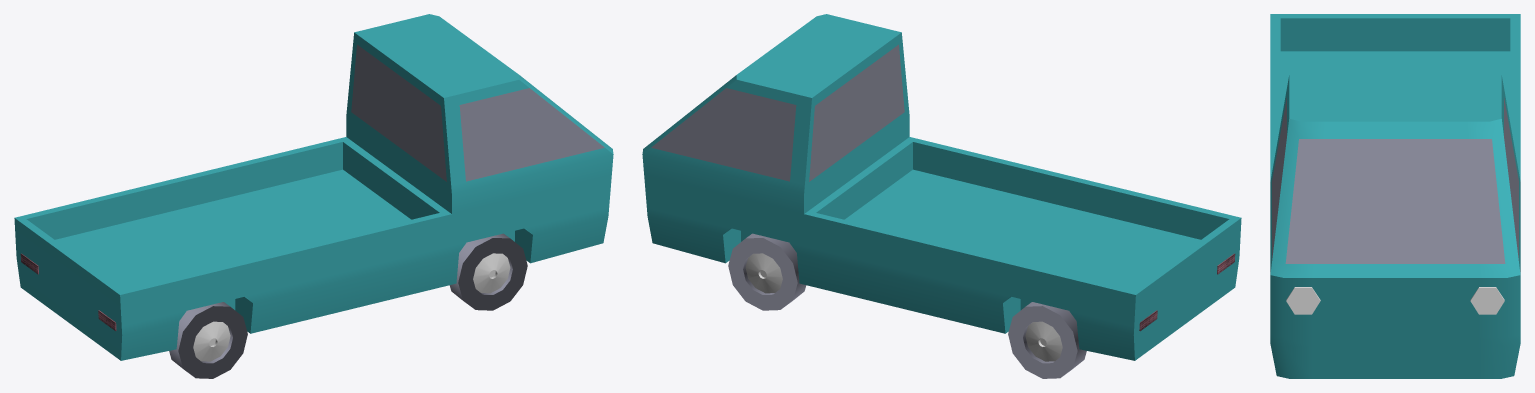
File: PickUpAqua.gltf
3 views of the same model, side by side, from view 1: azimuth 30°, elevation 25°; view 2: azimuth 150°, elevation 25°; view 3: azimuth 270°, elevation 25° (orthographic). The views are drawn at different scales.
Parts seen in each view (by area): view 1: Main body, Windows/Wheels, Wheels, Disk; view 2: Main body, Windows/Wheels, Wheels, Disk; view 3: Main body, Windows/Wheels, Front lights.
Boxes of the visible parts, box(x1,y1,x2,y2) form: Main body: box(14, 14, 613, 360); Windows/Wheels: box(351, 44, 604, 181); Wheels: box(169, 233, 527, 378); Disk: box(193, 253, 510, 361); Main body: box(642, 14, 1241, 360); Windows/Wheels: box(651, 44, 904, 181); Wheels: box(728, 233, 1086, 378); Disk: box(745, 253, 1062, 361); Main body: box(1270, 14, 1520, 378); Windows/Wheels: box(1272, 97, 1518, 263); Front lights: box(1286, 287, 1504, 314).
Size of the model in its own units: 0.0492 by 0.0207 by 0.018.
6 materials, 1 textured.
